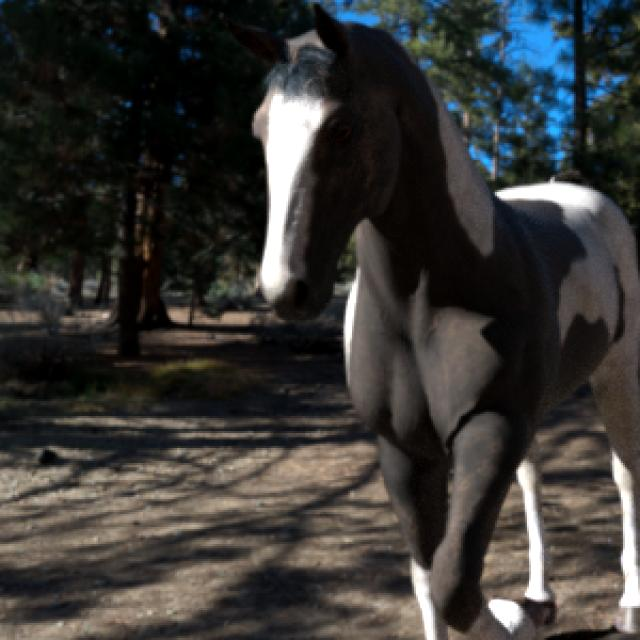horse: (237, 6, 640, 640)
